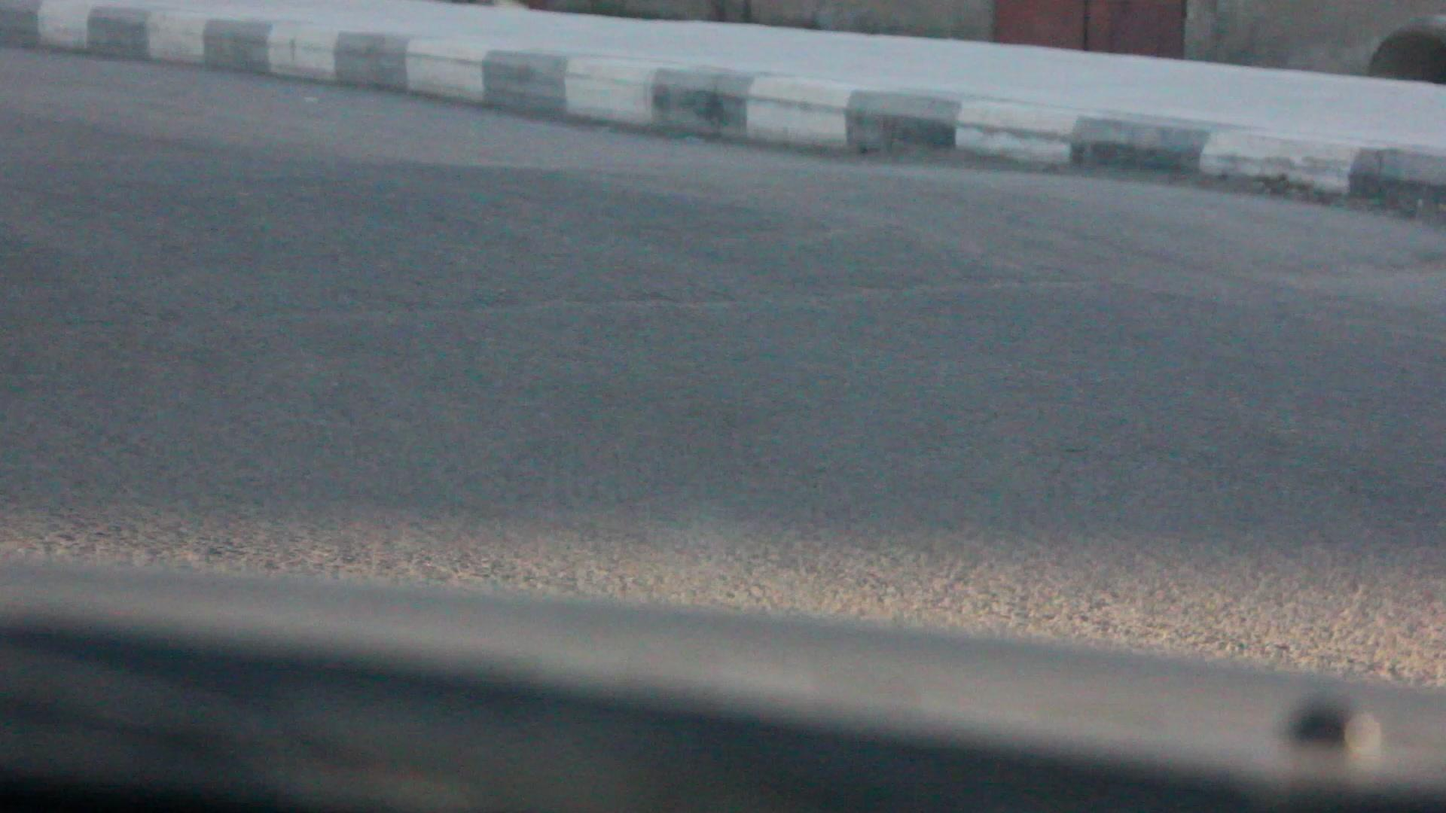Bump: (0, 128, 1429, 341)
